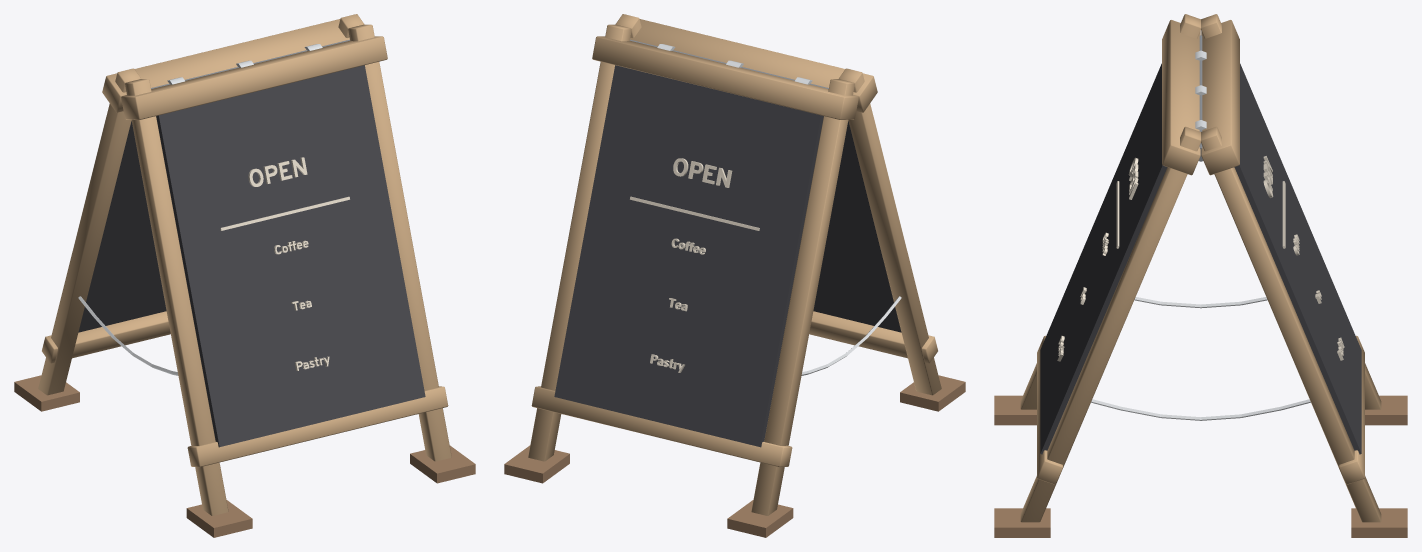
The model's file is Sign_AFrame.fbx.
3 views of the same model, side by side, from view 1: azimuth 30°, elevation 25°; view 2: azimuth 150°, elevation 25°; view 3: azimuth 270°, elevation 25° (orthographic). The views are drawn at different scales.
Parts seen in each view (by area): view 1: LOD0; view 2: LOD0; view 3: LOD0.
Boxes of the visible parts, bbox=[...] form: LOD0: bbox=[14, 14, 475, 537]; LOD0: bbox=[504, 14, 965, 537]; LOD0: bbox=[994, 14, 1407, 537].
Size of what is drawn, in the model's own units: 61 by 85.58 by 80.6.
